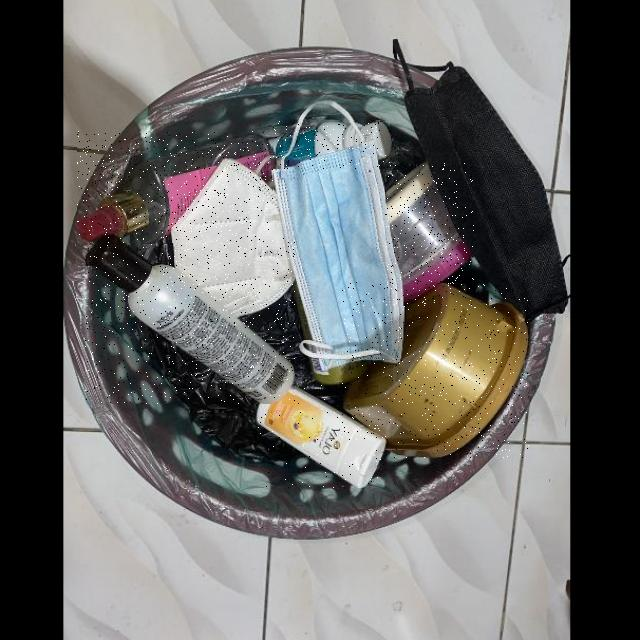plastic: (85, 233, 295, 403), (342, 282, 529, 457), (77, 131, 273, 242), (256, 384, 386, 488), (386, 163, 474, 306), (272, 121, 390, 168)
